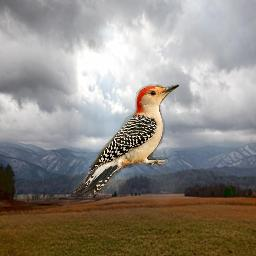Woodpecker: (72, 84, 179, 199)
